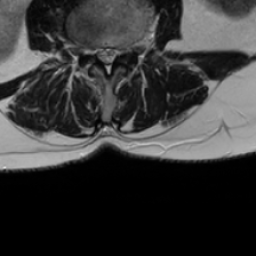CCS_normal: (103, 39, 113, 79)
LFS_severe_stenosis: (121, 40, 132, 62)
LLS_severe_stenosis: (113, 40, 121, 68)
RFS_stenosis: (85, 37, 94, 65)
RLS_stenosis: (94, 40, 103, 65)
